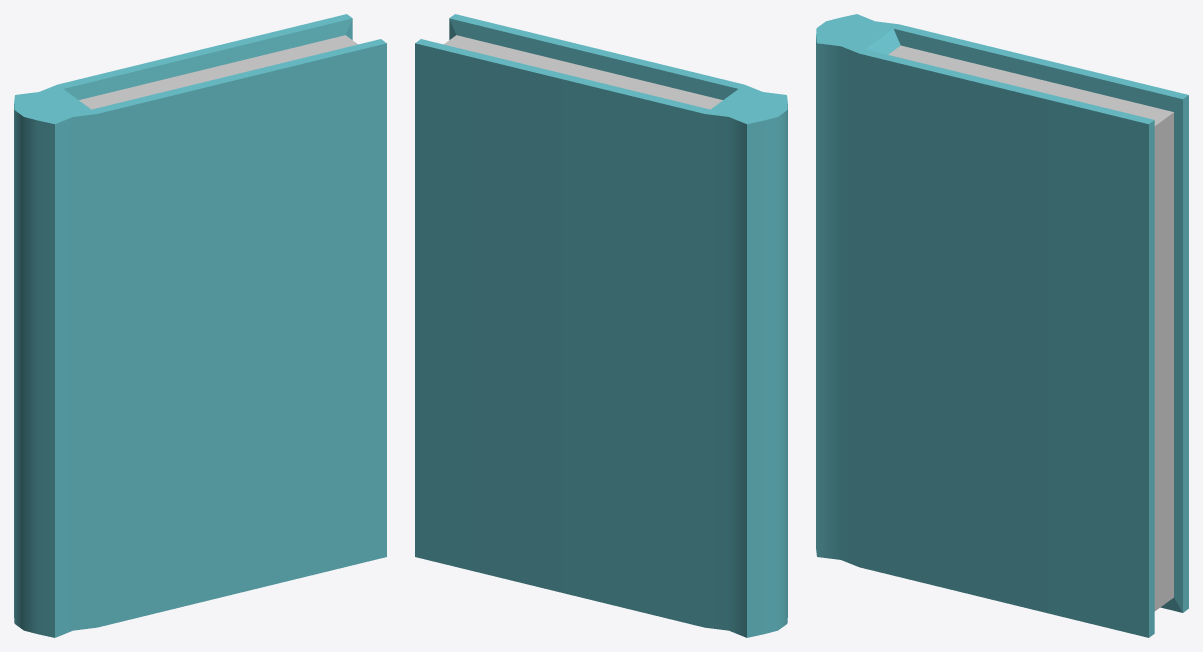
Rendered from book_8.fbx.
The picture shows the model from 3 angles, left to right: view 1: azimuth 30°, elevation 25°; view 2: azimuth 150°, elevation 25°; view 3: azimuth 330°, elevation 25°; orthographic projection.
Visible parts, largest first — view 1: pCube1; view 2: pCube1; view 3: pCube1.
Part boxes in pixels (x1=…): pCube1: x1=14, y1=14, x2=386, y2=637; pCube1: x1=415, y1=14, x2=787, y2=637; pCube1: x1=816, y1=14, x2=1188, y2=637.
Size of the model in its own units: 11.6 by 16.38 by 2.31.
